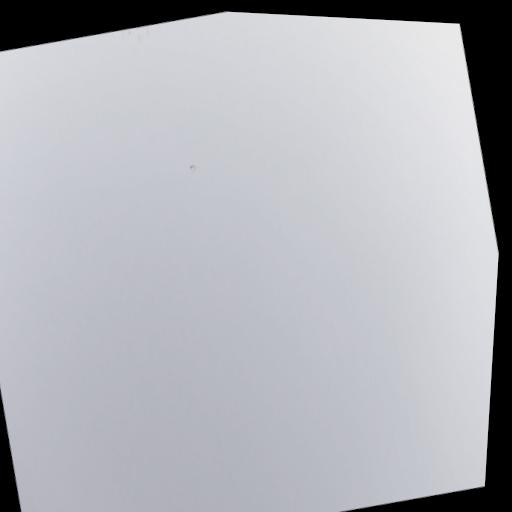drones: (189, 162, 197, 173)
